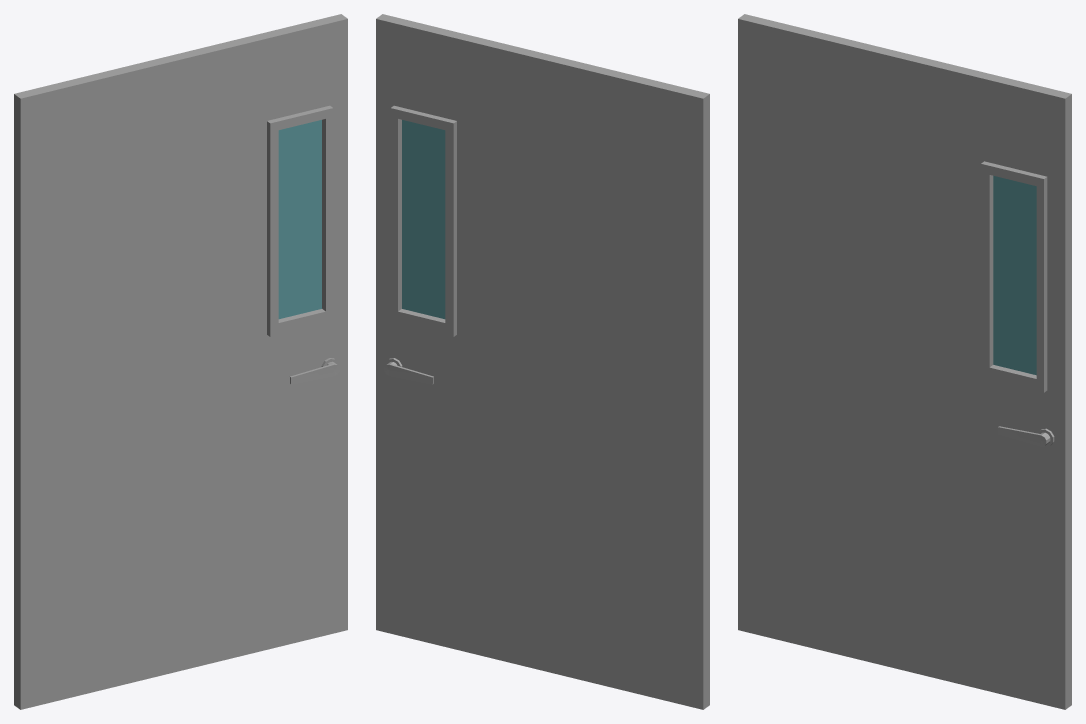
File: Door_extra_small.fbx
3 renders of one model, left to right at view 1: azimuth 30°, elevation 25°; view 2: azimuth 150°, elevation 25°; view 3: azimuth 330°, elevation 25°, orthographic.
Parts seen in each view (by area): view 1: polySurface132; view 2: polySurface132; view 3: polySurface132.
Part boxes in pixels (x1,y1,x2,y2): polySurface132: [14, 14, 347, 709]; polySurface132: [376, 14, 709, 709]; polySurface132: [738, 14, 1071, 709].
Size of the model in its own units: 200 by 358 by 18.32.
